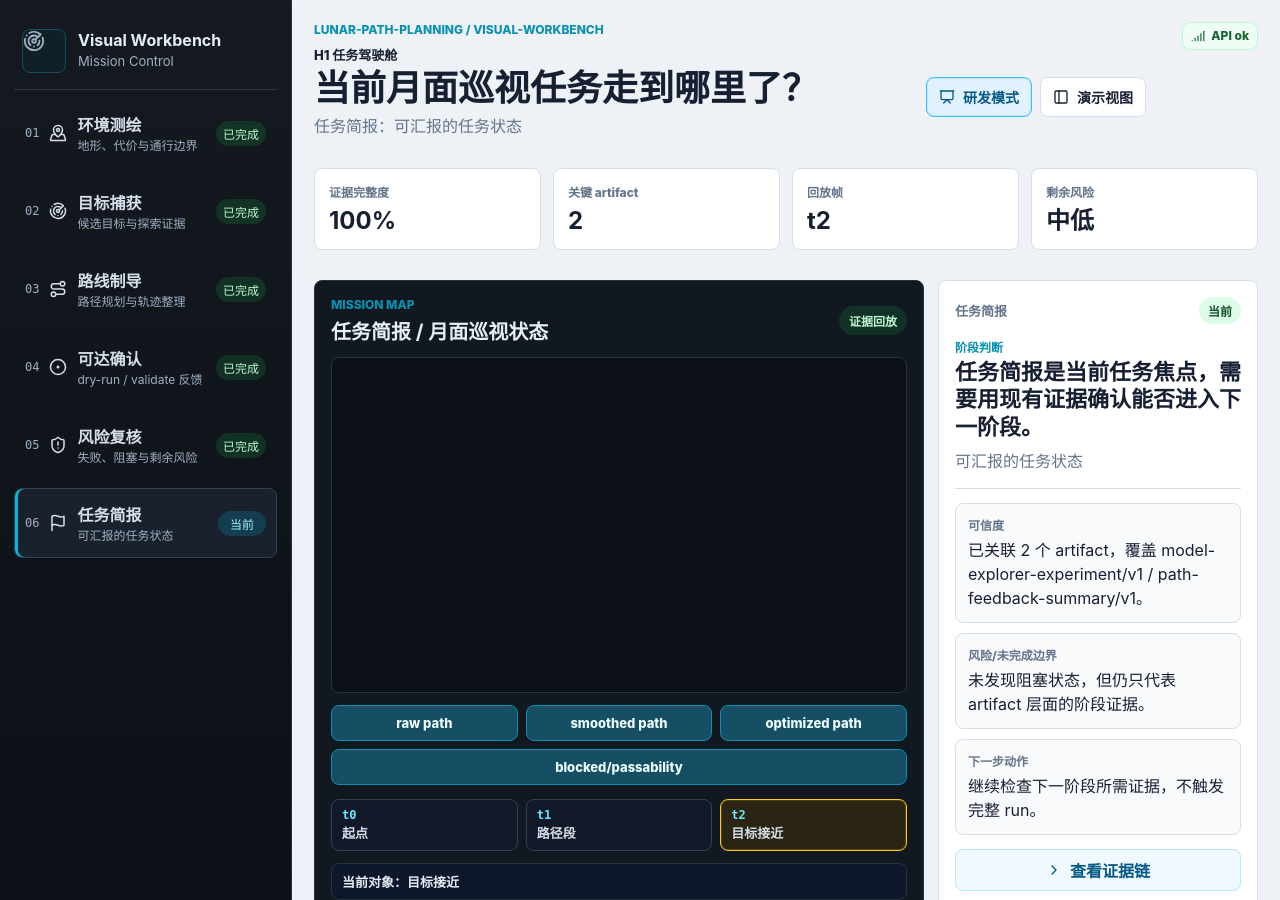
Scenario: App › presentation mode hides raw evidence after it was expanded
Click the button "03 路线制导 路径规划与轨迹整理 已完成".
click(109, 281)  # box [14, 254, 277, 324]
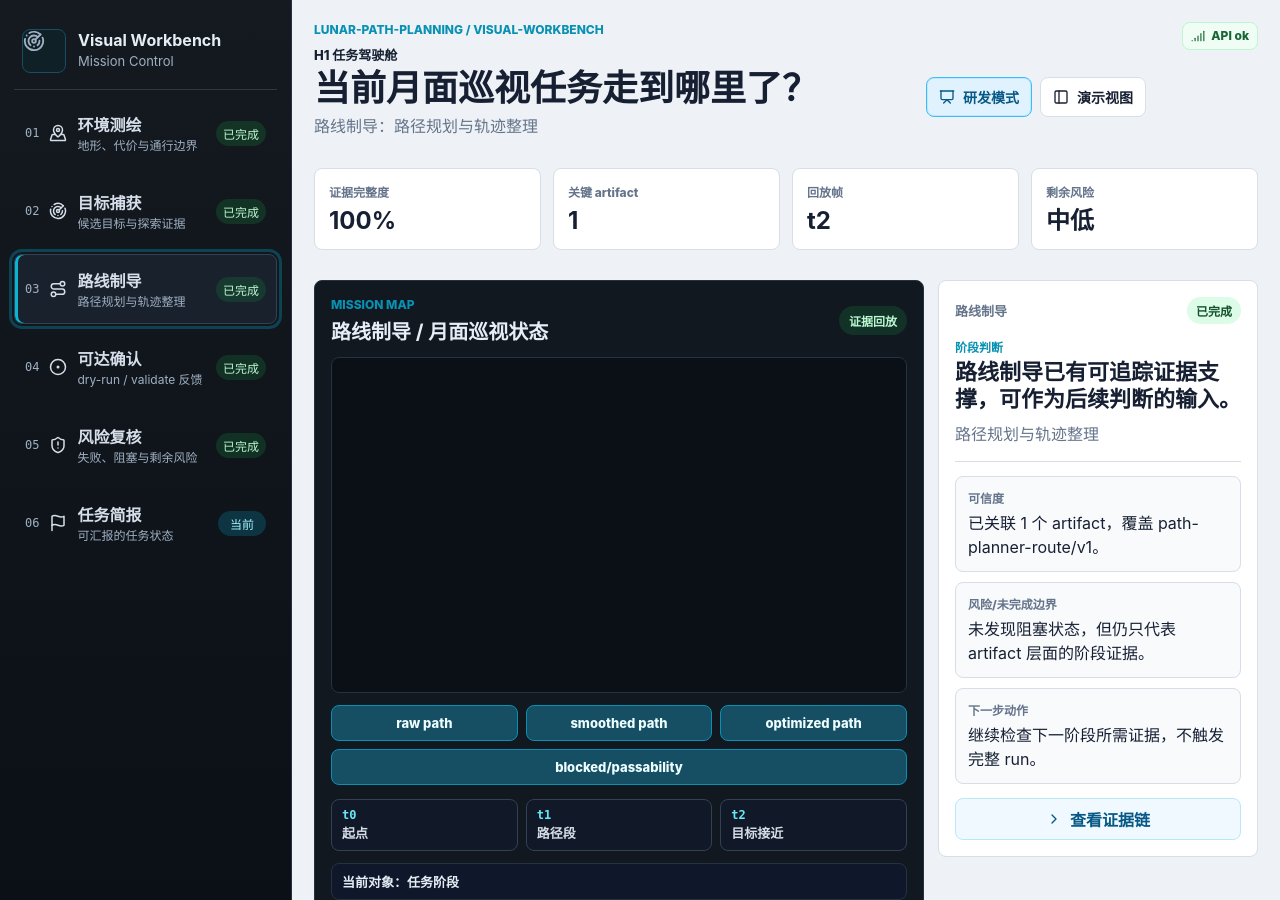
Click the button "查看证据链".
click(1098, 819)  # box [955, 798, 1241, 840]
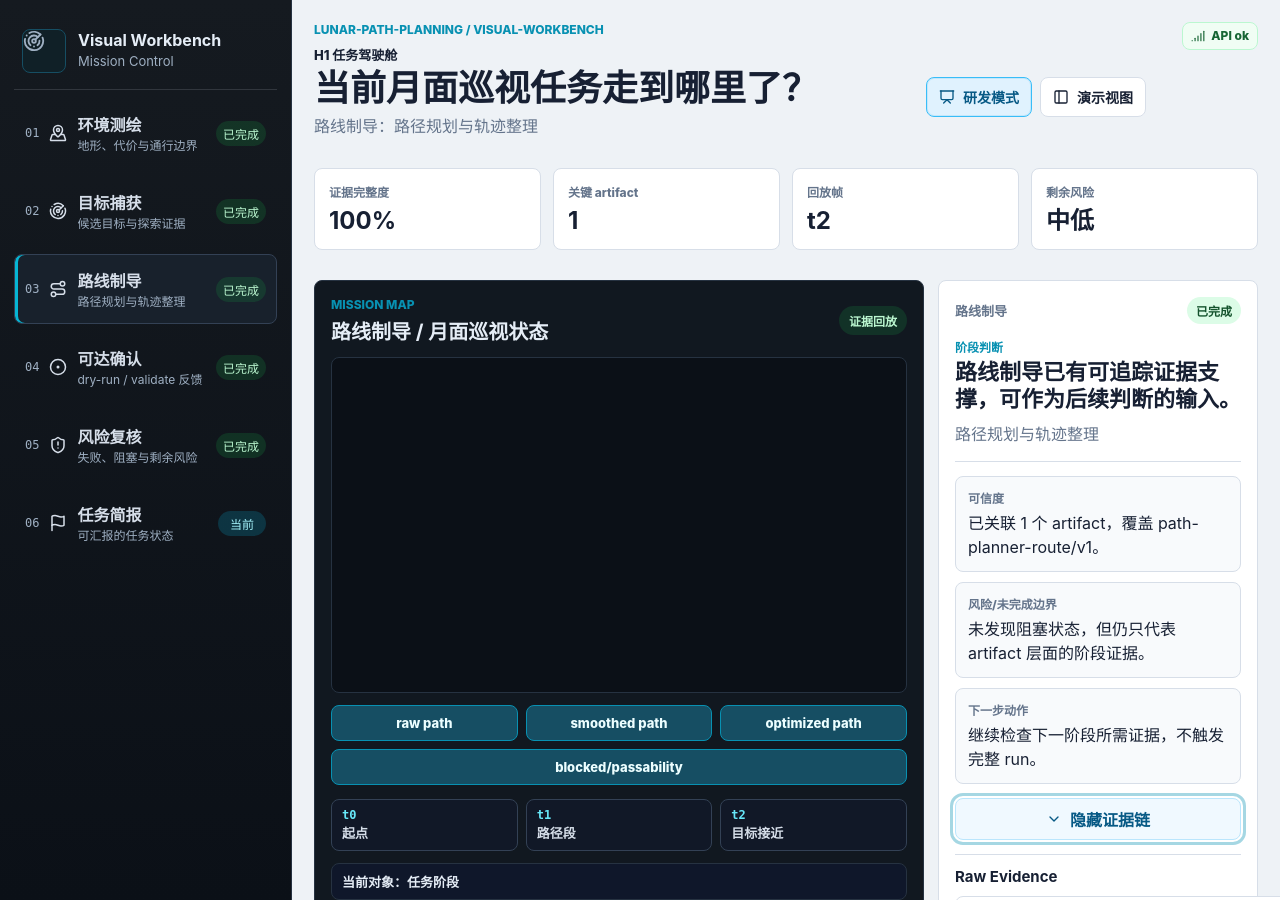
Result: the heading "Raw Evidence" is shown at [955, 867, 1058, 886]
Click the button with aria-label "切换到演示模式".
click(1093, 97)  # box [1040, 77, 1146, 117]
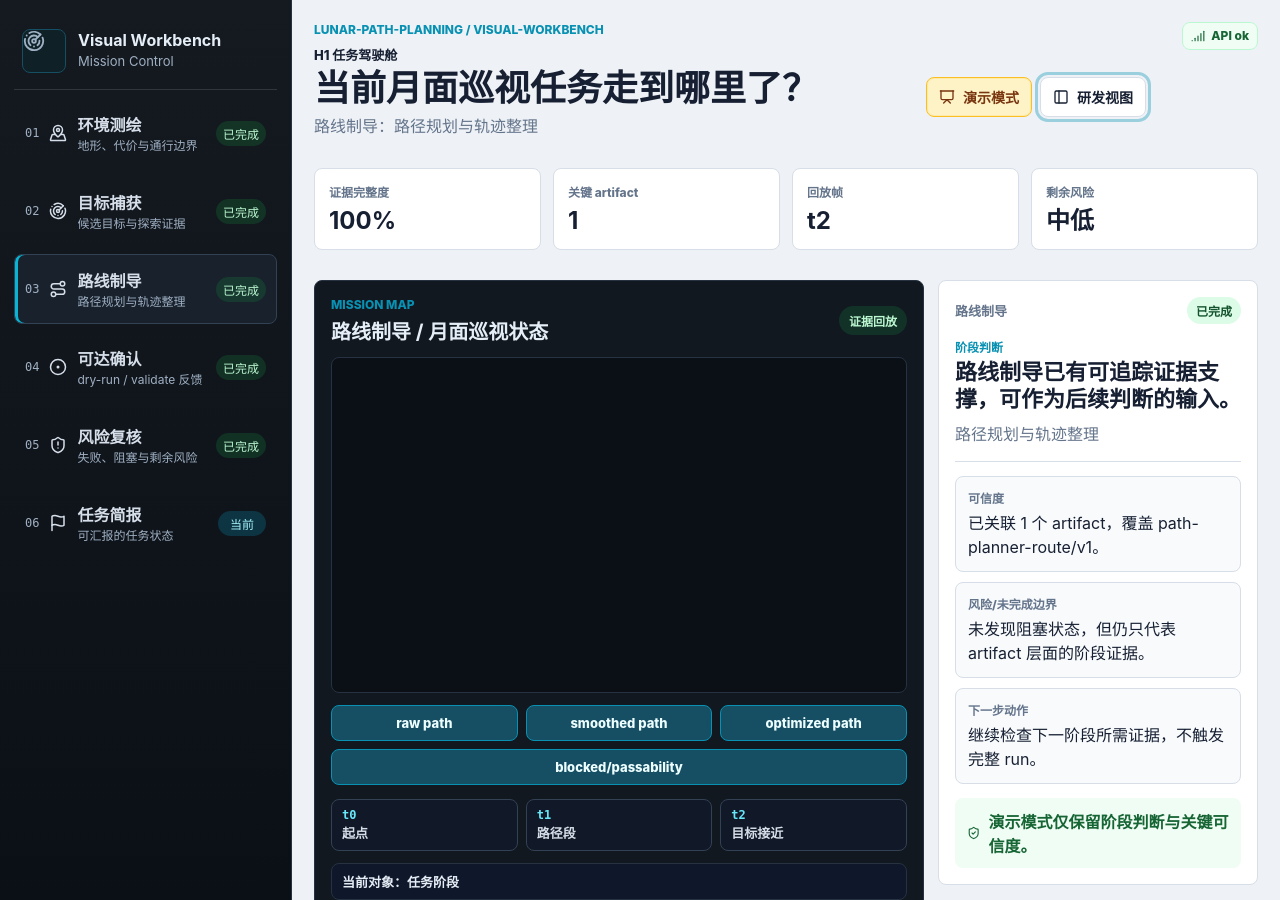
Result: the text "演示模式" is shown at [926, 77, 1032, 117]
Result: the heading "Raw Evidence" is gone
